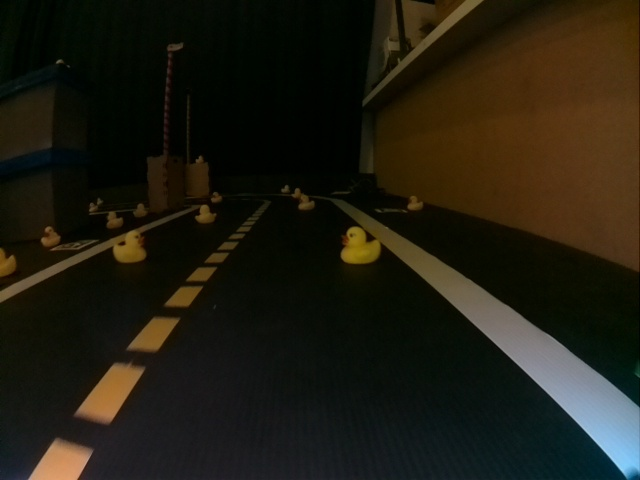Duckie: (343, 228, 380, 262), (113, 233, 146, 262), (3, 249, 16, 277), (197, 205, 215, 223), (41, 227, 58, 246), (106, 212, 123, 227), (299, 196, 315, 211), (409, 196, 420, 211), (134, 203, 146, 216), (292, 189, 302, 198), (88, 203, 98, 212), (196, 156, 205, 163), (282, 185, 290, 192), (96, 198, 104, 204), (213, 193, 220, 199)
QR code: (52, 241, 93, 250), (376, 205, 404, 213)
